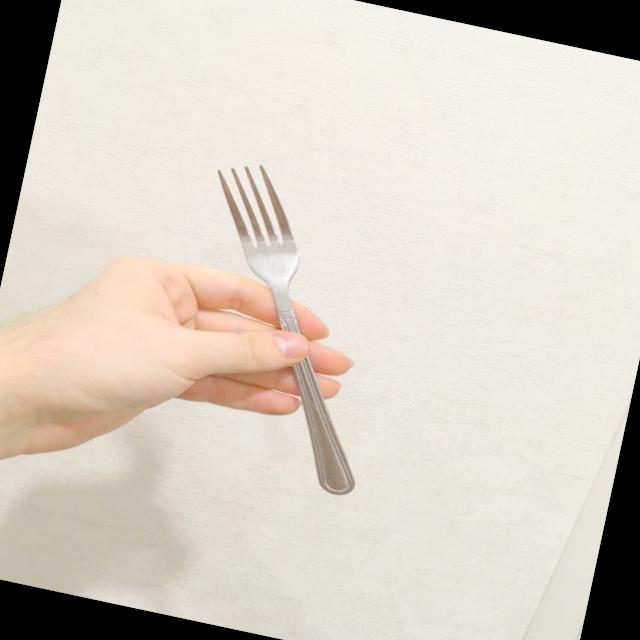fork: (152, 154, 416, 499)
